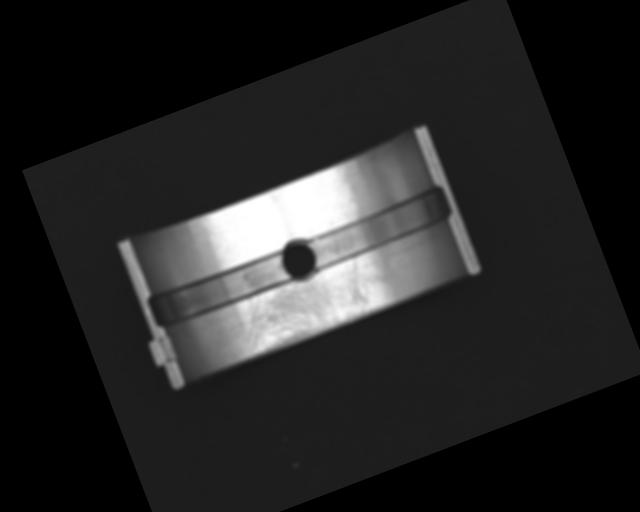gap: (303, 185, 454, 272), (145, 249, 292, 329)
hole: (277, 233, 321, 285)
scratch: (233, 251, 388, 357)
